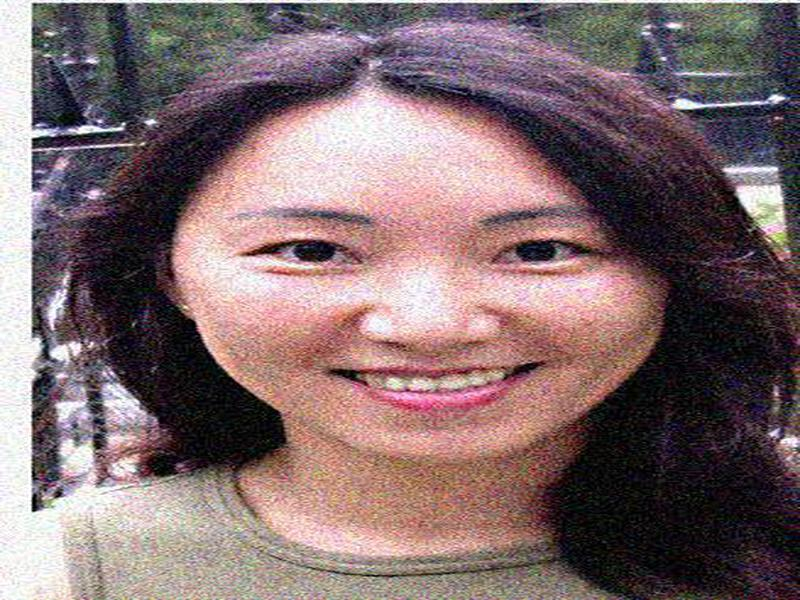without_mask: (174, 155, 668, 450)
